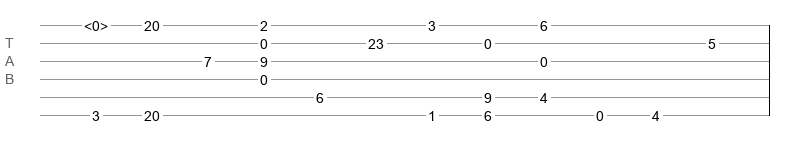0: (260, 36, 268, 46), (260, 72, 268, 82), (484, 36, 492, 46), (540, 54, 548, 64), (596, 108, 604, 118)
1: (428, 108, 436, 118)
2: (260, 18, 268, 28)
20: (144, 108, 160, 118), (144, 18, 160, 28)
23: (368, 36, 384, 46)
3: (92, 108, 100, 118), (428, 18, 436, 28)
4: (540, 90, 548, 100), (652, 108, 660, 118)
5: (708, 36, 716, 46)
6: (316, 90, 324, 100), (484, 108, 492, 118), (540, 18, 548, 28)
7: (204, 54, 212, 64)
9: (260, 54, 268, 64), (484, 90, 492, 100)
harmonic: (84, 18, 108, 28)
